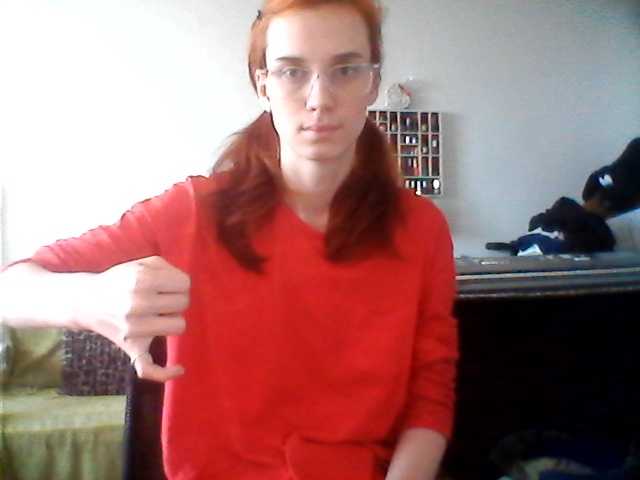j: (91, 229, 209, 391)
